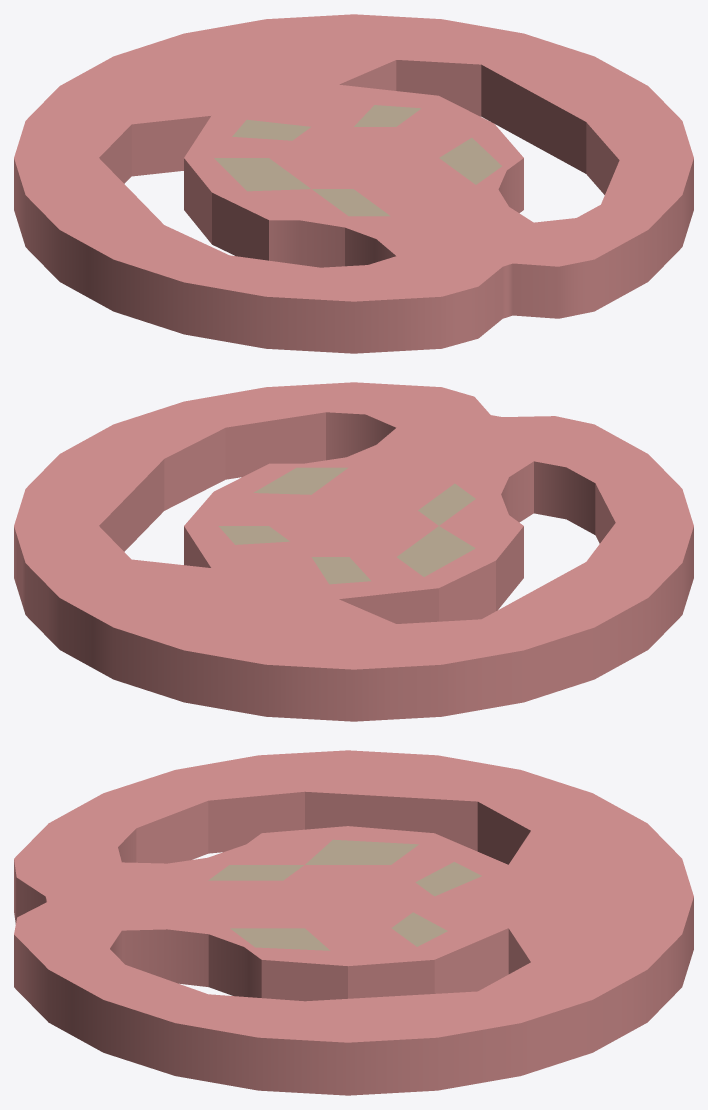
Rendered from tomatoslice.fbx.
3 views of the same model, one above another, from view 1: azimuth 30°, elevation 25°; view 2: azimuth 150°, elevation 25°; view 3: azimuth 270°, elevation 25° (orthographic).
Visible parts, largest first — view 1: tomatoslice; view 2: tomatoslice; view 3: tomatoslice.
Part boxes in pixels (box(x1,y1,x2,y2)): tomatoslice: box(14, 14, 693, 353); tomatoslice: box(14, 382, 693, 721); tomatoslice: box(14, 750, 693, 1095).
Size of the model in its own units: 2 by 0.1689 by 1.97.
